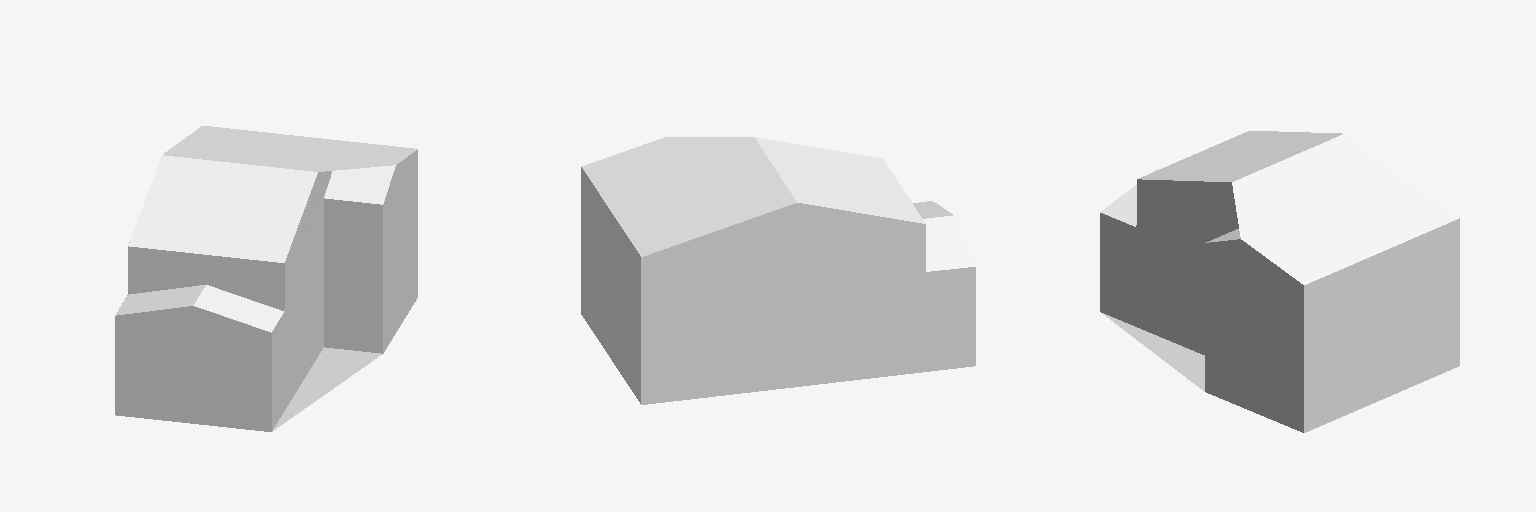
The model's file is house_Shape 258.obj.
The picture shows the model from 3 angles: view 1: azimuth 30°, elevation 25°; view 2: azimuth 150°, elevation 25°; view 3: azimuth 270°, elevation 25°; orthographic projection.
Visible parts, largest first — view 1: CityEngineMaterial_75, CityEngineMaterial_4, CityEngineMaterial_162, CityEngineMaterial_110, CityEngineMaterial_161; view 2: CityEngineMaterial_163, CityEngineMaterial_4, CityEngineMaterial_162; view 3: CityEngineMaterial_4, CityEngineMaterial_75, CityEngineMaterial_162, CityEngineMaterial_163, CityEngineMaterial_161.
Boxes of the visible parts, box(x1,y1,x2,y2) form: CityEngineMaterial_75: box(115, 196, 417, 431); CityEngineMaterial_4: box(115, 126, 417, 332); CityEngineMaterial_162: box(129, 150, 417, 328); CityEngineMaterial_110: box(324, 198, 382, 250); CityEngineMaterial_161: box(221, 315, 381, 431); CityEngineMaterial_163: box(581, 212, 975, 404); CityEngineMaterial_4: box(582, 137, 975, 271); CityEngineMaterial_162: box(581, 167, 925, 302); CityEngineMaterial_4: box(1100, 131, 1458, 284); CityEngineMaterial_75: box(1100, 213, 1303, 432); CityEngineMaterial_162: box(1137, 179, 1459, 330); CityEngineMaterial_163: box(1304, 264, 1459, 432); CityEngineMaterial_161: box(1102, 313, 1204, 391).
Bounding box in the file's own units: 16.06 × 8.11 × 14.36.